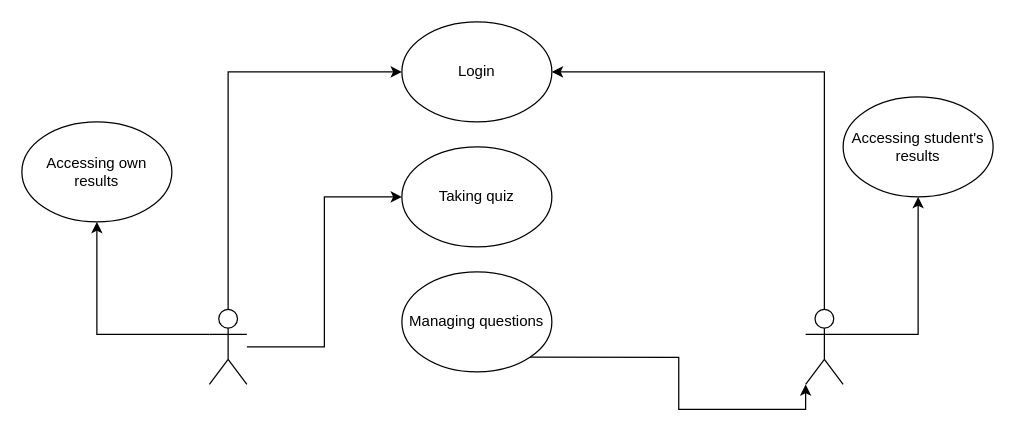
This 1015x441 diagram has some shape labels left out. Here are the shapes that lost their labels. From the top down, the centre of each, then its label:
the point at 227,346: Student
the point at 823,346: Teacher
